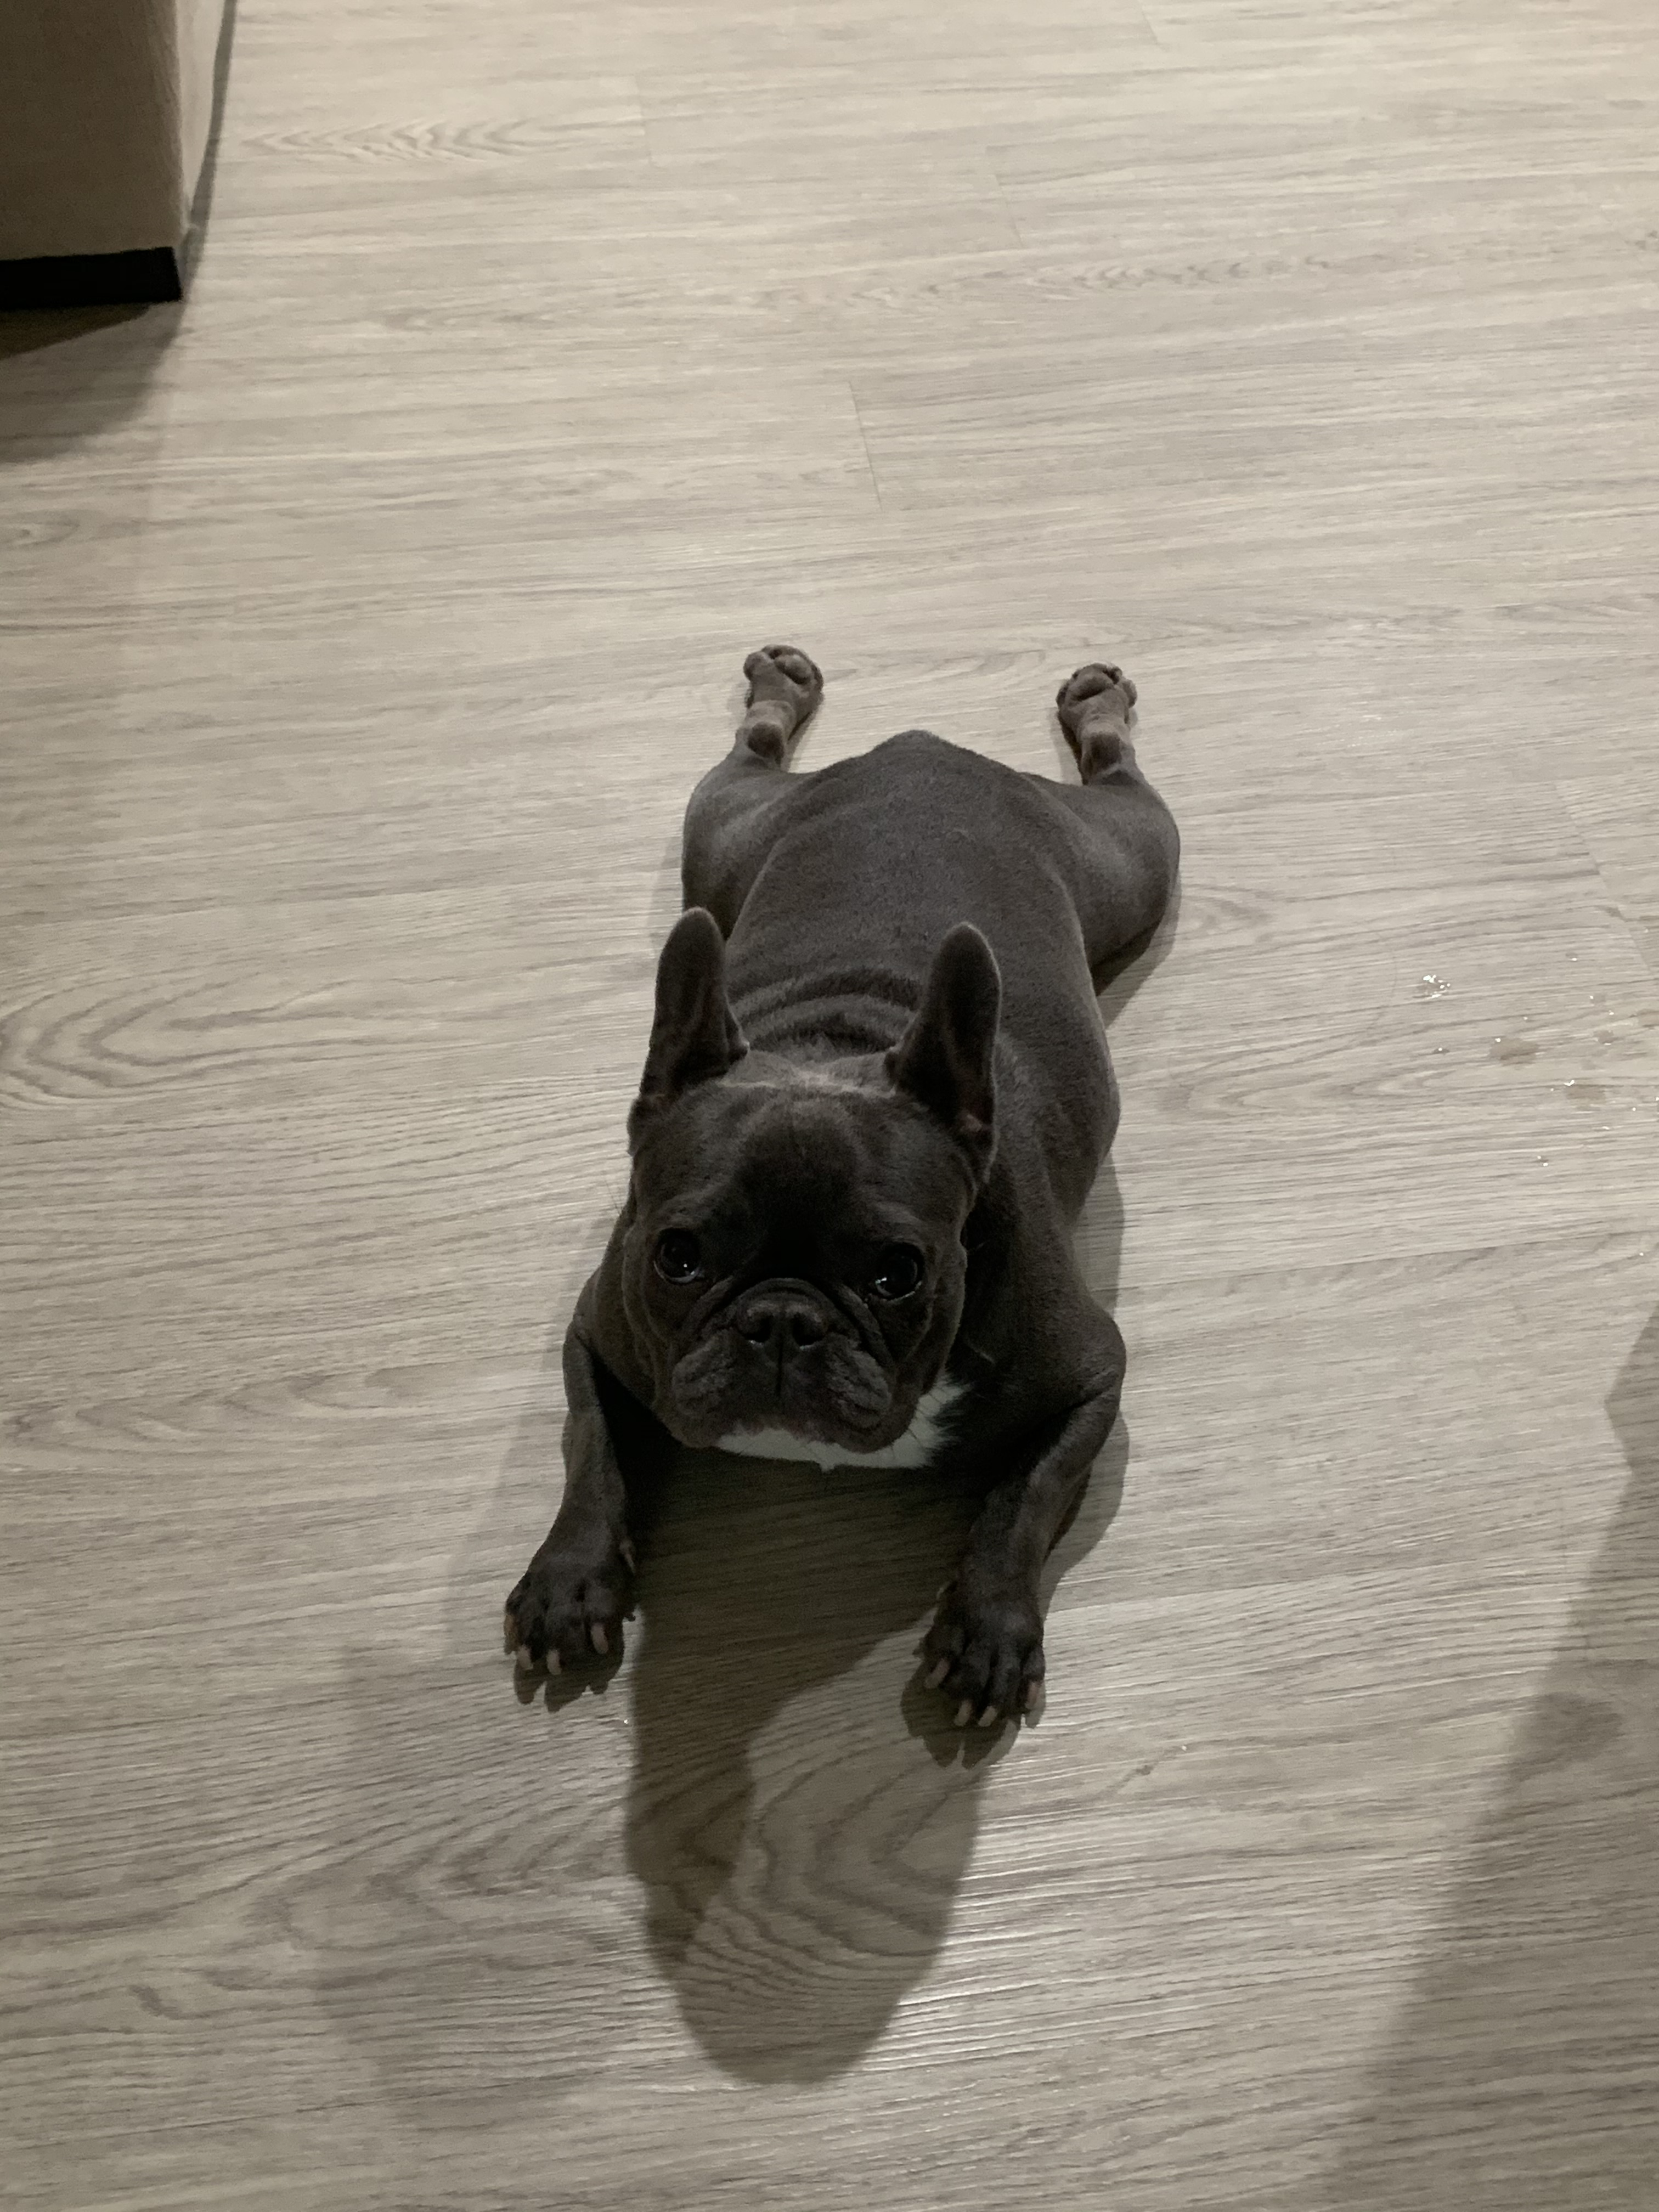lucy: (497, 632, 1182, 1747)
